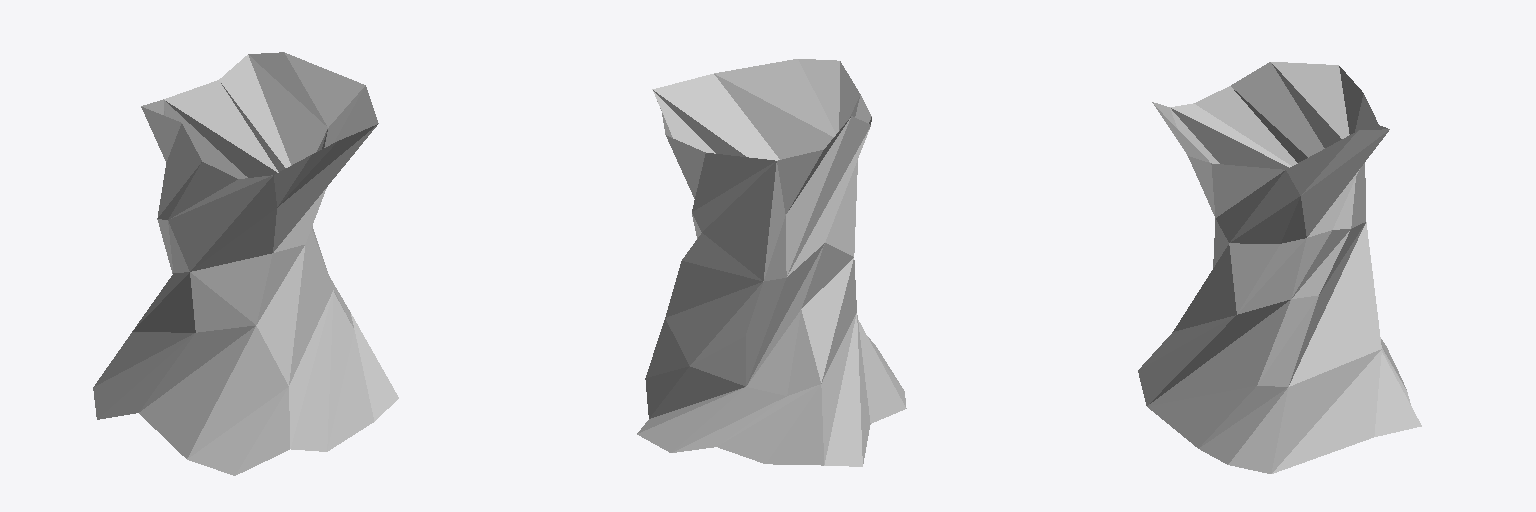
File: DarkColumn01.obj
3 views of the same model, side by side, from view 1: azimuth 30°, elevation 25°; view 2: azimuth 150°, elevation 25°; view 3: azimuth 270°, elevation 25° (orthographic).
Visible parts, largest first — view 1: Cylinder001; view 2: Cylinder001; view 3: Cylinder001.
Boxes of the visible parts, <box> form: Cylinder001: <box>93,52,398,475</box>; Cylinder001: <box>637,59,906,466</box>; Cylinder001: <box>1138,62,1421,473</box>.
Bounding box in the file's own units: 5.48 × 6.53 × 5.31.